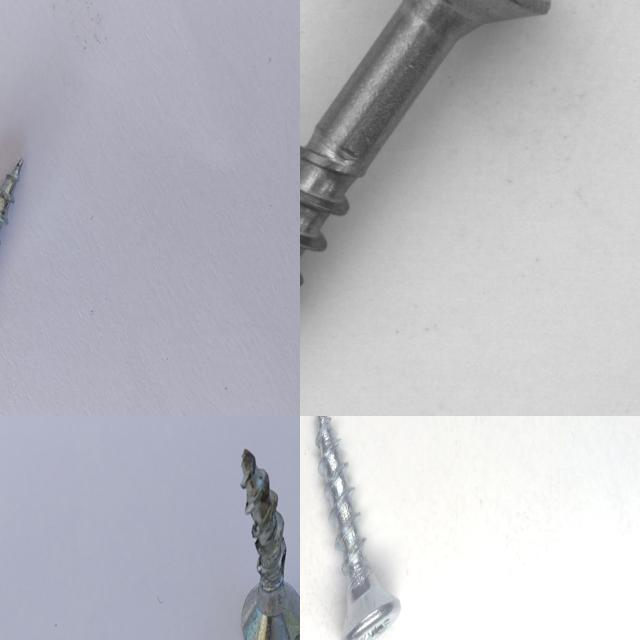Screw: (300, 0, 606, 416), (316, 416, 401, 640), (241, 448, 300, 640)
